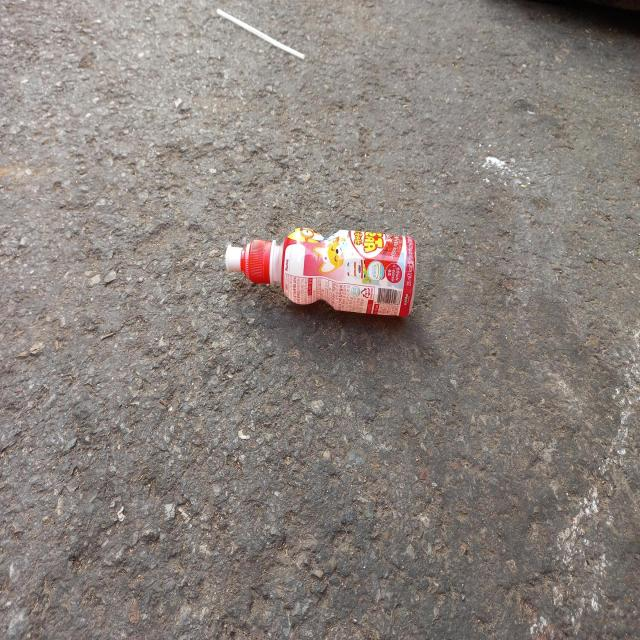plastic: (225, 227, 416, 316)
